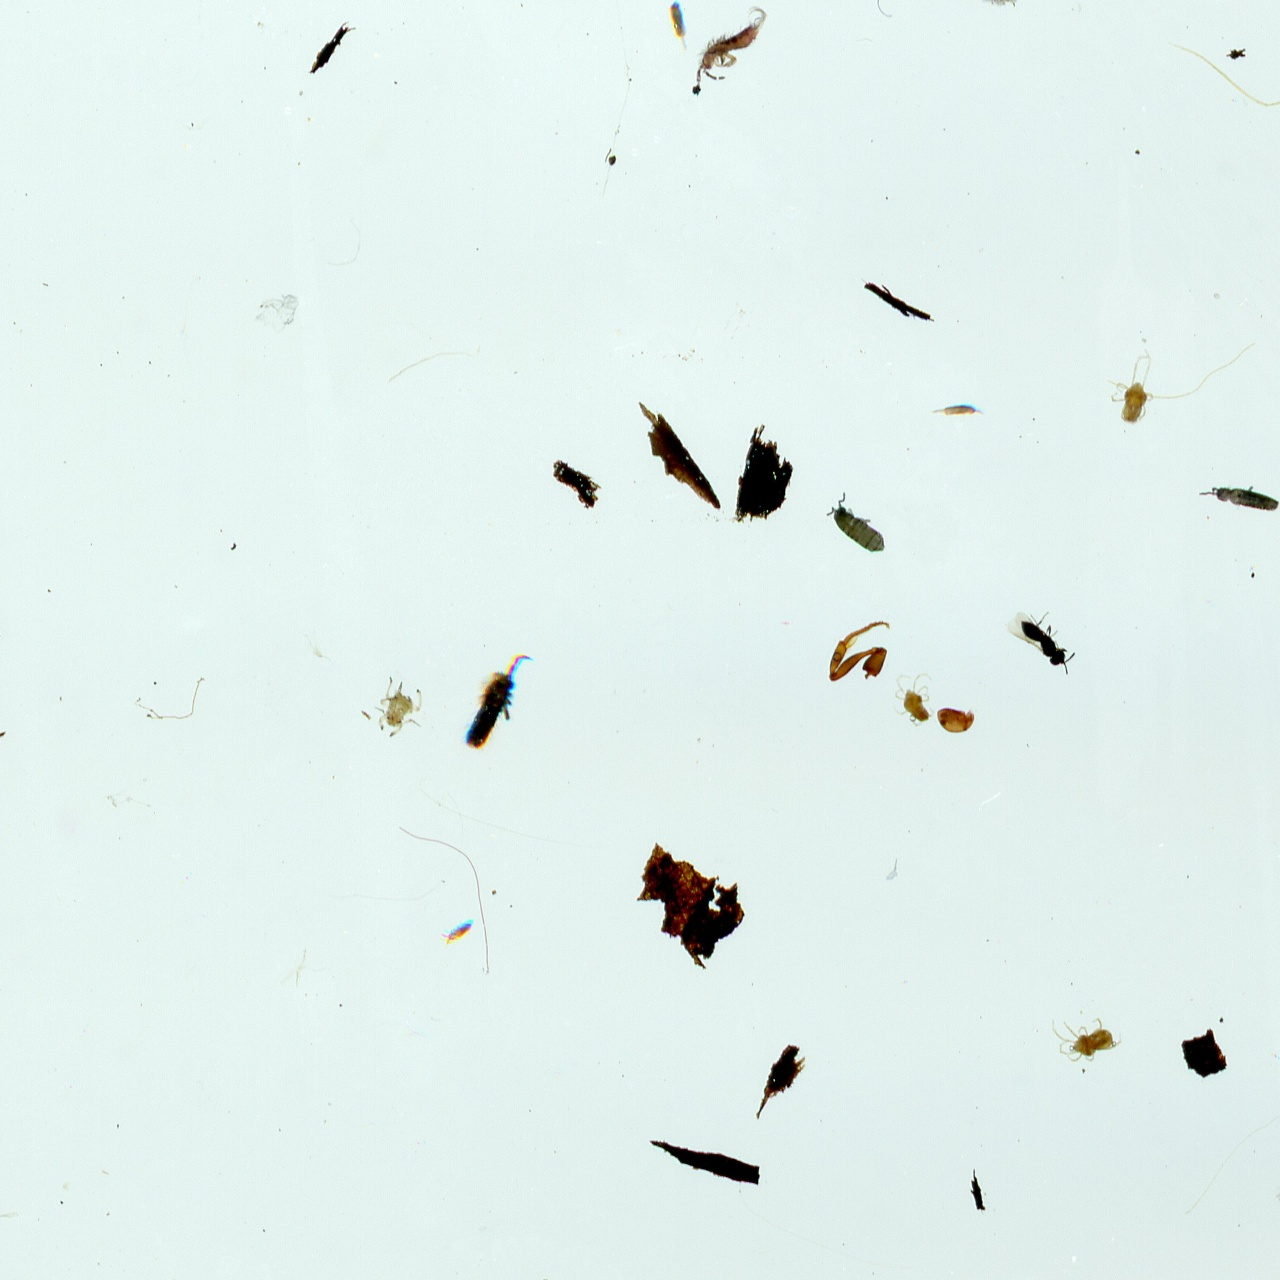arthropod: (1103, 340, 1260, 429), (452, 637, 542, 765), (813, 483, 900, 574), (692, 2, 770, 94), (1003, 604, 1076, 678), (1050, 1014, 1124, 1067), (372, 673, 427, 739), (1194, 481, 1280, 518), (891, 671, 937, 728), (959, 0, 1029, 27), (933, 703, 979, 738), (664, 0, 693, 55), (1268, 1128, 1280, 1223), (440, 917, 476, 947), (929, 402, 988, 420)
